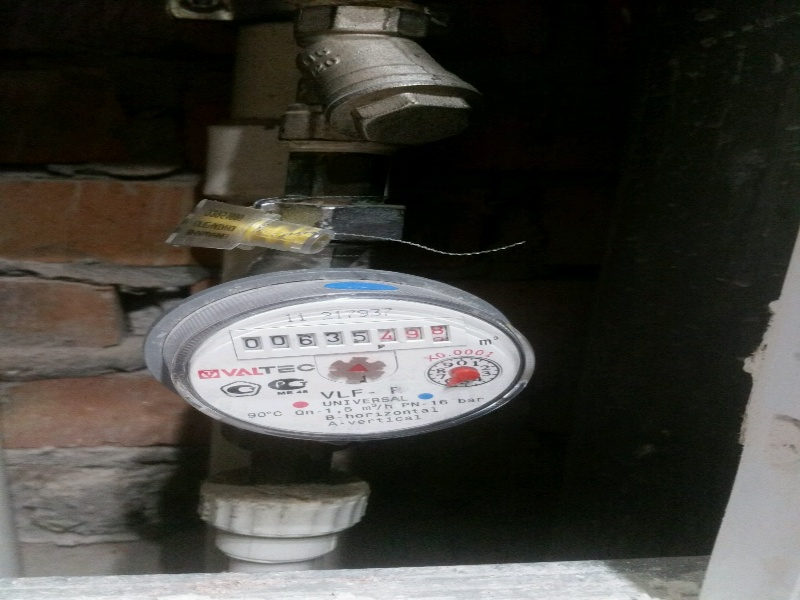meter: (229, 326, 467, 350)
